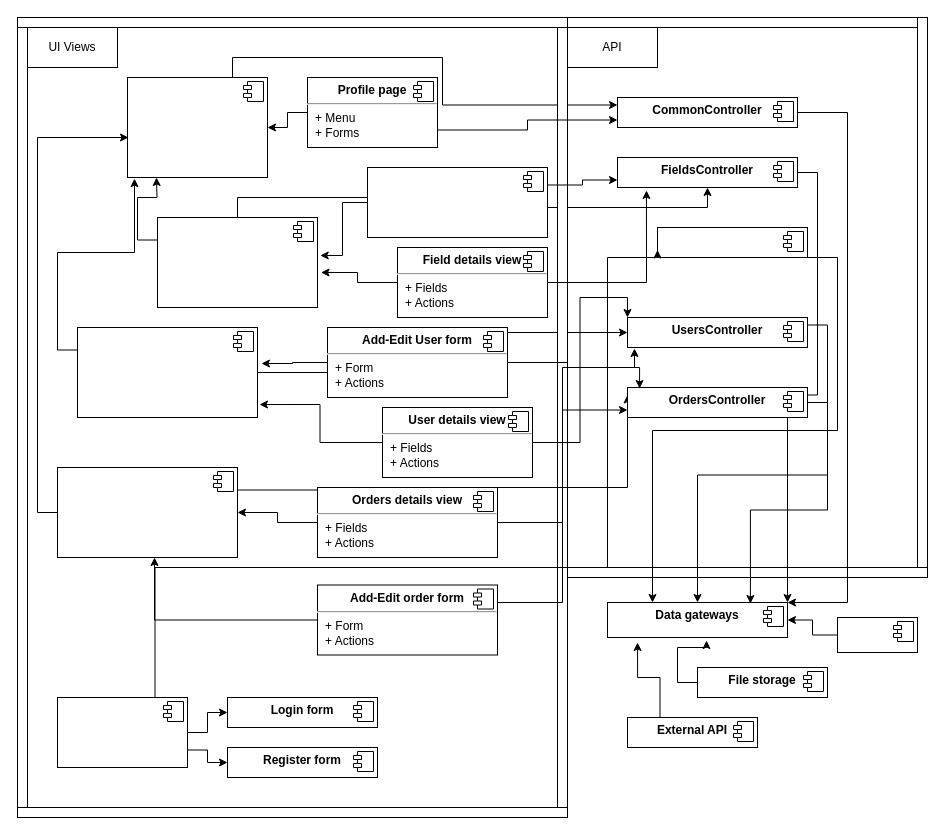
This 945x835 diagram has some shape labels left out. Here are the shapes that lost their labels. From the top down, the box of each, then its label:
(126, 76, 268, 178): Layout page + Header + Menu + Body + Footer
(366, 166, 548, 238): Add-Edit Field form + Form + Actions
(156, 216, 318, 308): Fields catalog page + Filter + List + Paginator
(656, 226, 808, 258): AuthController
(76, 326, 258, 418): Users page + Filter + List + Paginator
(56, 466, 238, 558): Orders page + Filter + List + Paginator
(836, 616, 918, 652): DB
(56, 696, 188, 768): Login page + Form + Actions
